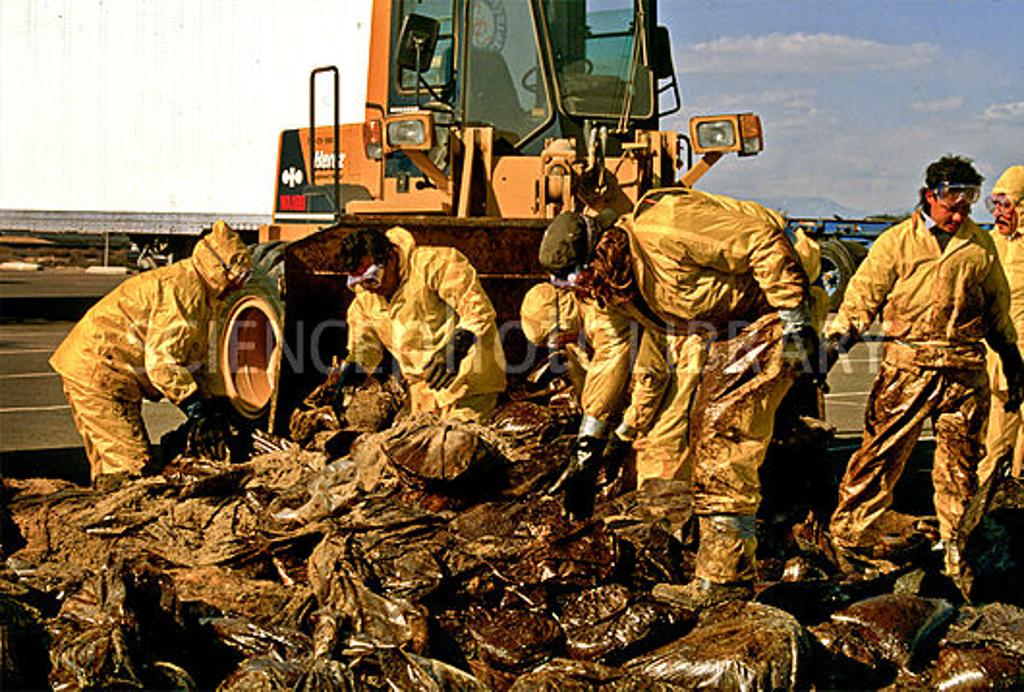face: (934, 191, 973, 232), (348, 256, 390, 294), (563, 271, 612, 301), (216, 269, 249, 301), (992, 192, 1017, 233), (546, 330, 577, 349)
